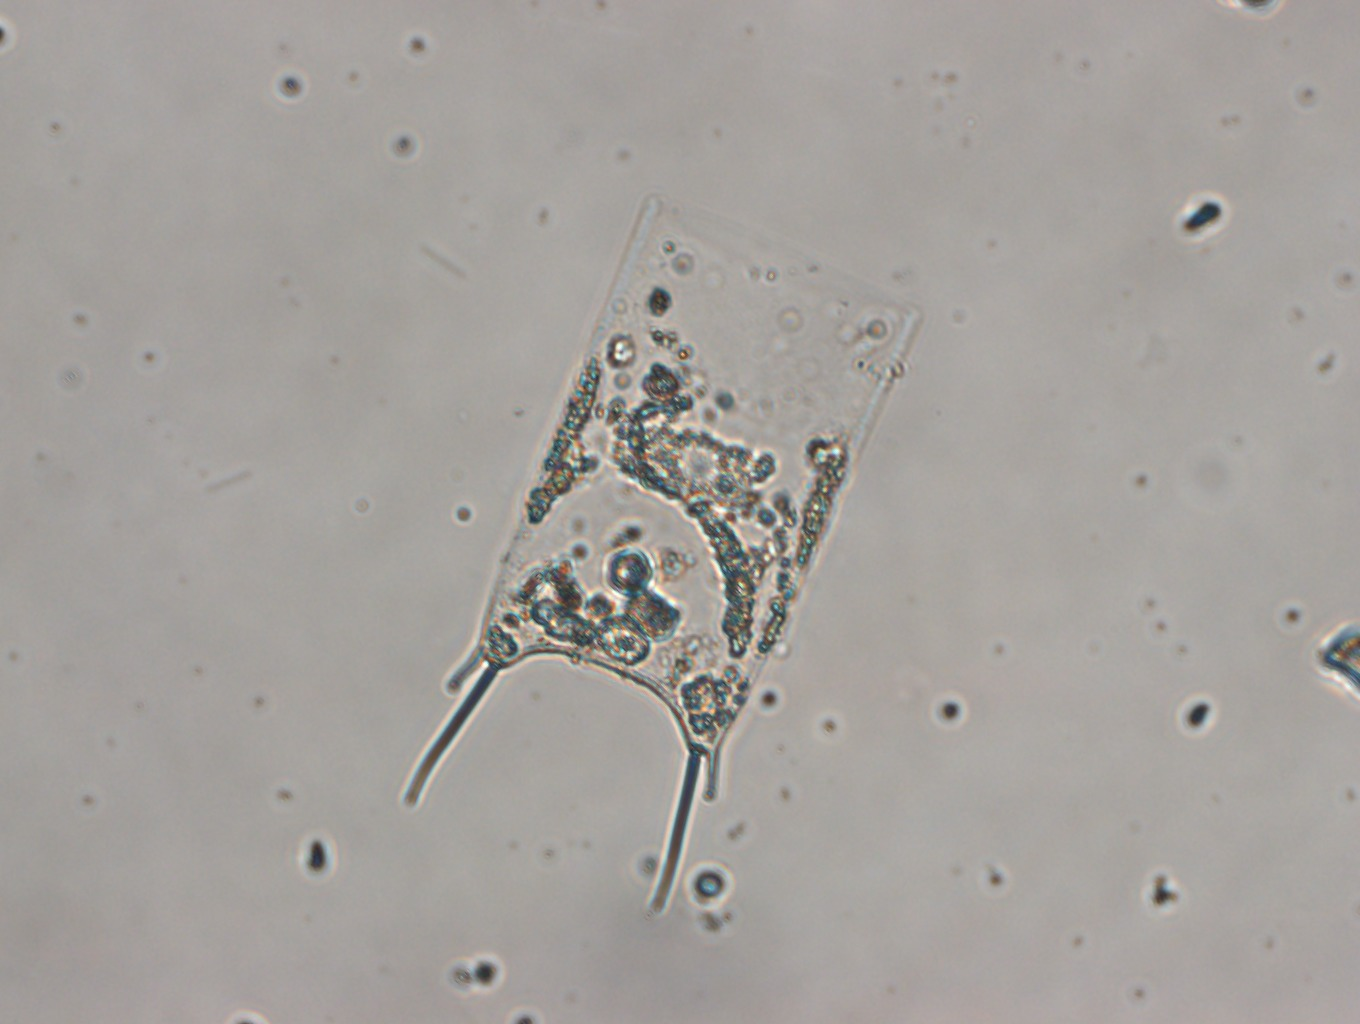biddulphia: (402, 196, 922, 914)
